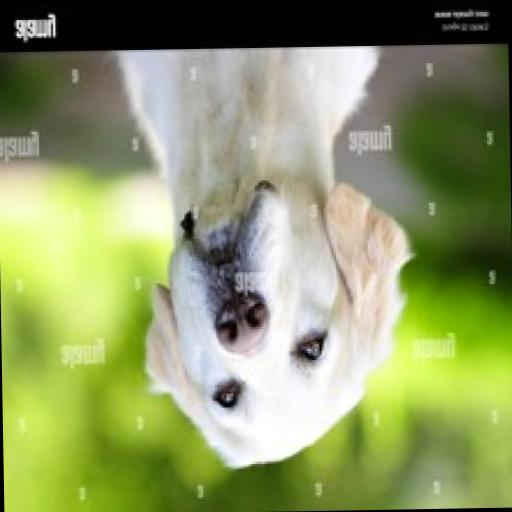dog: (113, 48, 420, 477)
